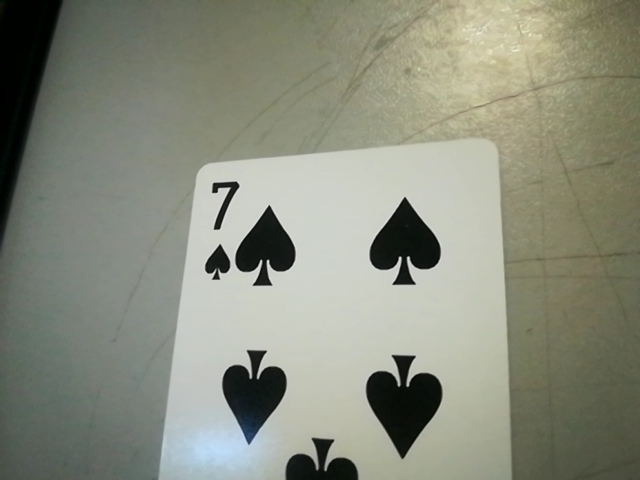ht 7: (190, 172, 239, 286)
